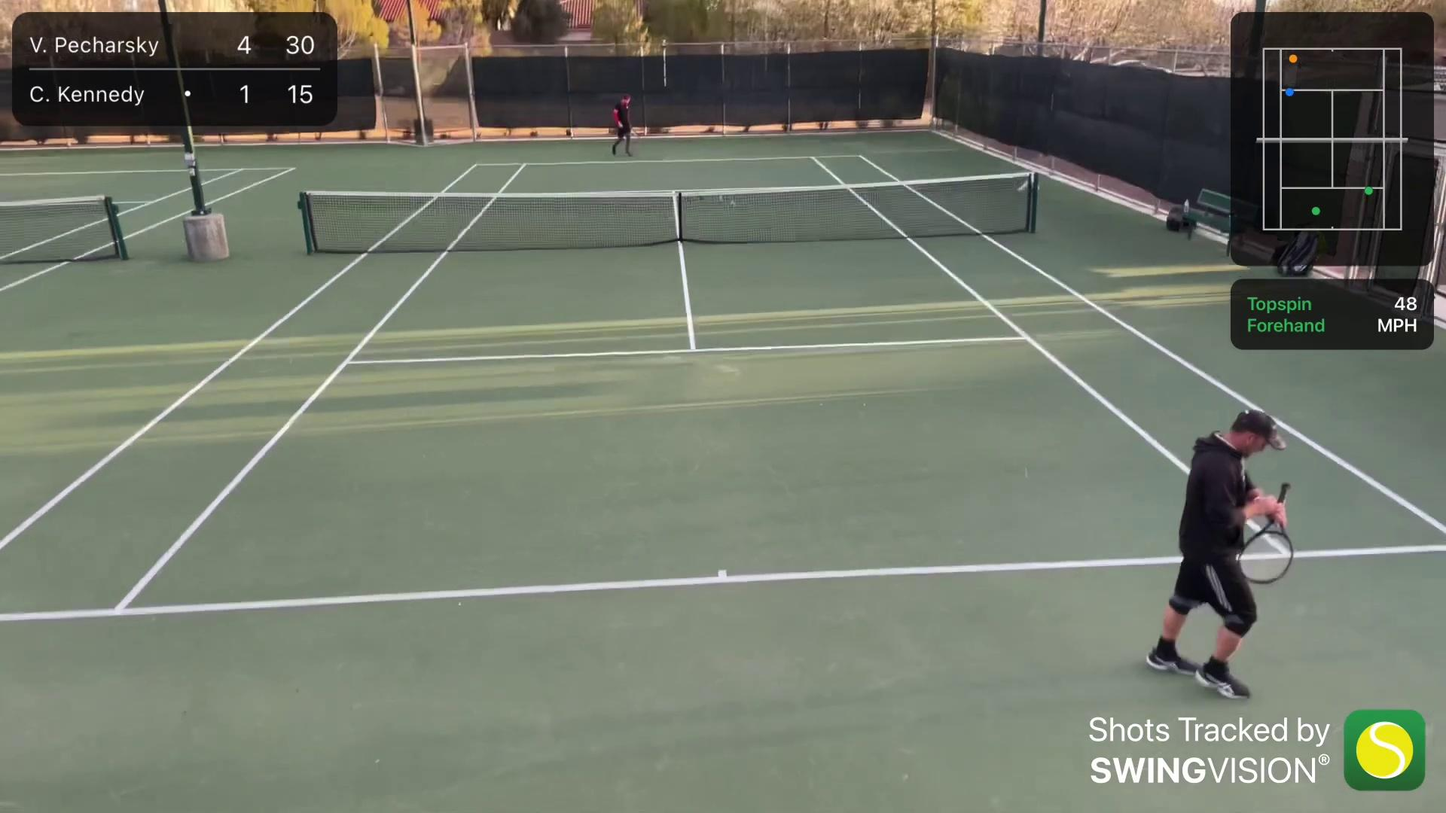ball: (898, 772, 909, 783)
